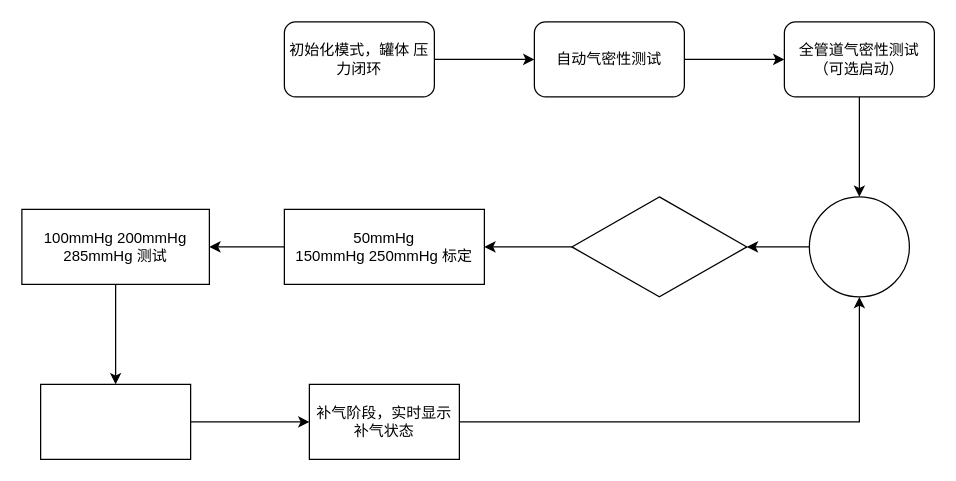
Image size: 956x481. Some labels were removed from this diagram. Here are the shapes that lost their labels. From the top down, the box of each, then its label:
(571, 196, 747, 297): PCBA气密性 测试
(808, 196, 909, 297): Ready
(39, 383, 191, 459): 校准完毕，蜂鸣器提示
